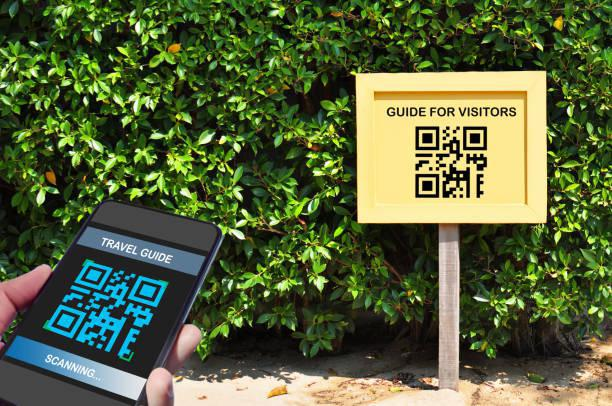Finder pattern: (45, 303, 87, 340), (128, 274, 170, 309), (74, 261, 115, 291), (411, 124, 441, 153), (412, 171, 442, 199), (461, 125, 490, 153)
